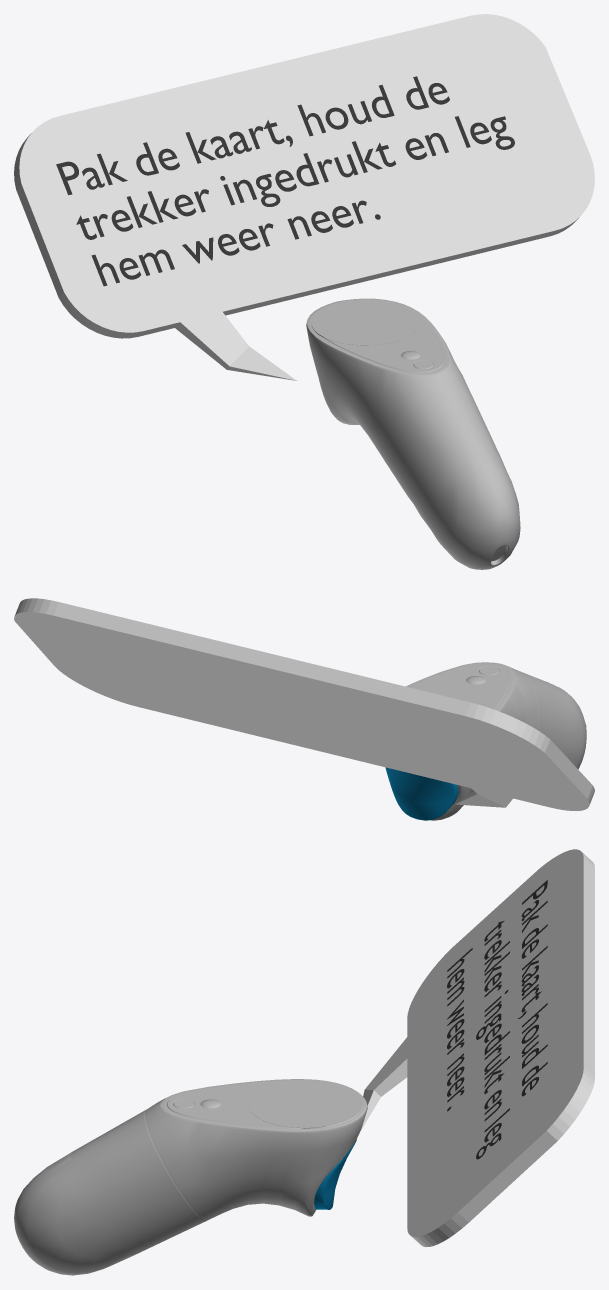
Rendered from REMOTE-tutorial-8-grab-map-2.fbx.
3 renders of one model, top to bottom at view 1: azimuth 30°, elevation 25°; view 2: azimuth 150°, elevation 25°; view 3: azimuth 270°, elevation 25°, orthographic. The views are drawn at different scales.
Parts seen in each view (by area): view 1: Curve, Circle, Text; view 2: Curve, Circle; view 3: Curve, Circle, Text.
Boxes of the visible parts, bbox=[...] form: Curve: bbox=[14, 14, 594, 380]; Circle: bbox=[306, 298, 520, 569]; Text: bbox=[56, 76, 514, 286]; Curve: bbox=[14, 598, 594, 810]; Circle: bbox=[385, 662, 586, 820]; Curve: bbox=[360, 849, 594, 1247]; Circle: bbox=[14, 1079, 367, 1275]; Text: bbox=[447, 880, 547, 1159].
Bounding box in the file's own units: 426 × 241 × 388.
